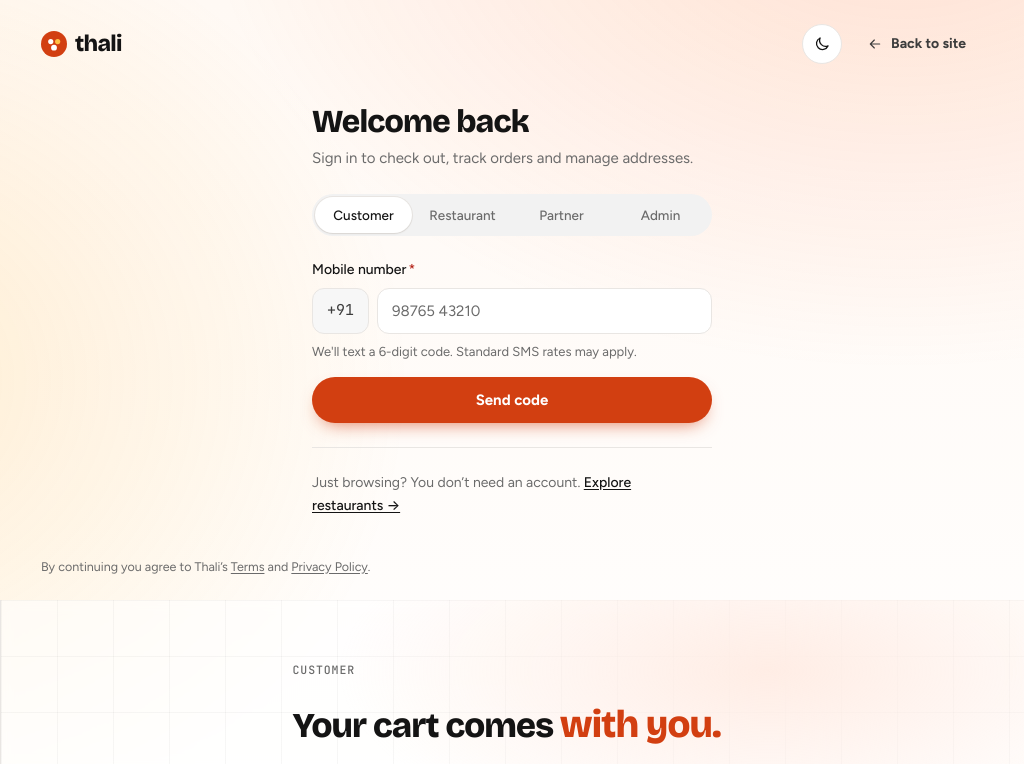
Test: unified sign-in › role tabs swap copy and update ?role= (next kept)
Expected: the heading "Welcome back" is shown, [312, 102, 529, 141]
Expected: the heading "Your cart comes with you." is shown, [292, 704, 732, 744]
Click the button "Restaurant" at (462, 215), box [414, 197, 511, 233]
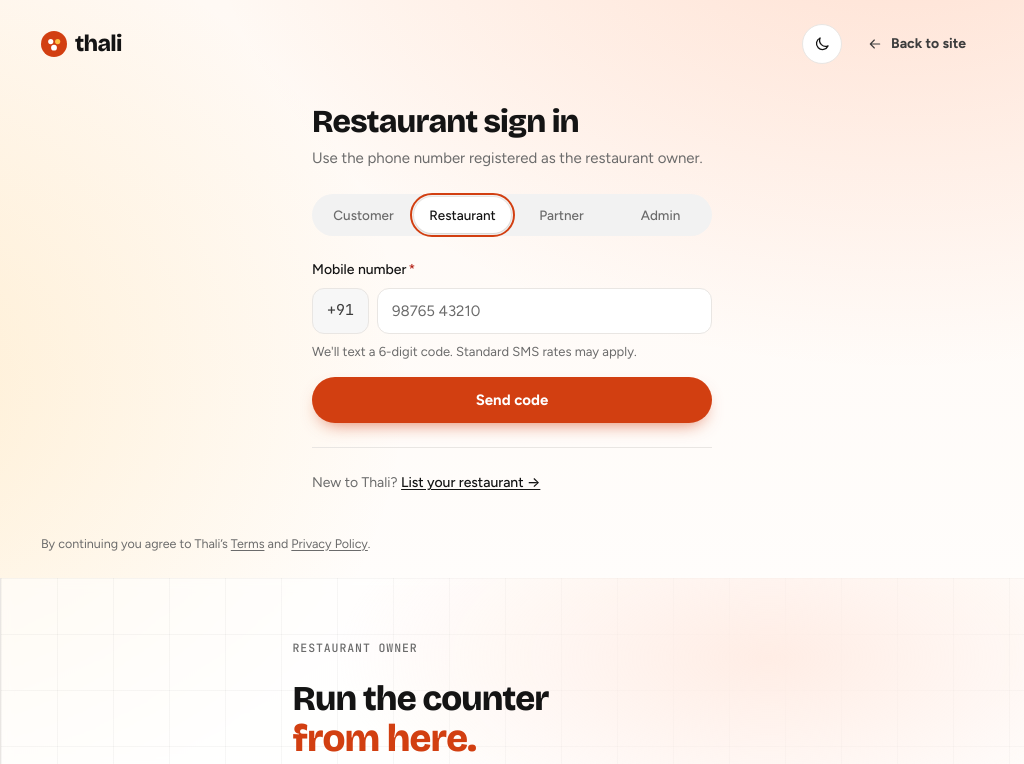
Expected: the heading "Restaurant sign in" is shown, [312, 102, 579, 141]
Click the button "Admin" at (660, 215), box [612, 197, 709, 233]
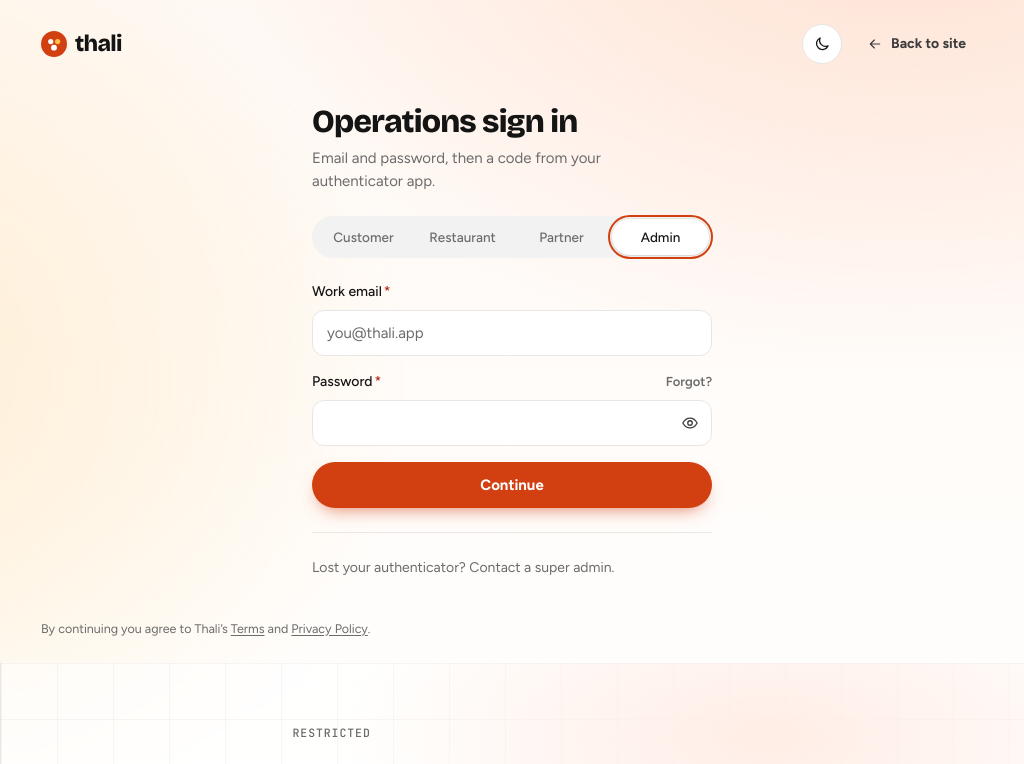
Expected: the field labelled "Work email*" is shown, [312, 310, 712, 356]
Expected: the heading "Operations sign in" is shown, [312, 102, 577, 141]
